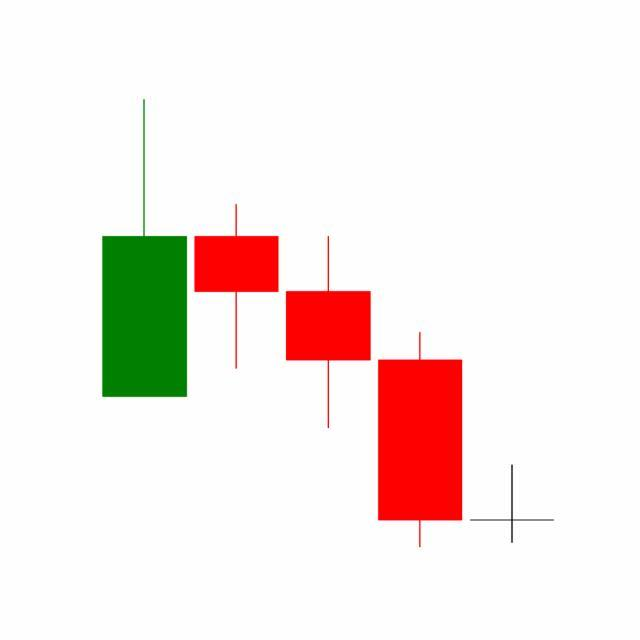Gravestone Doji: (466, 464, 559, 545)
